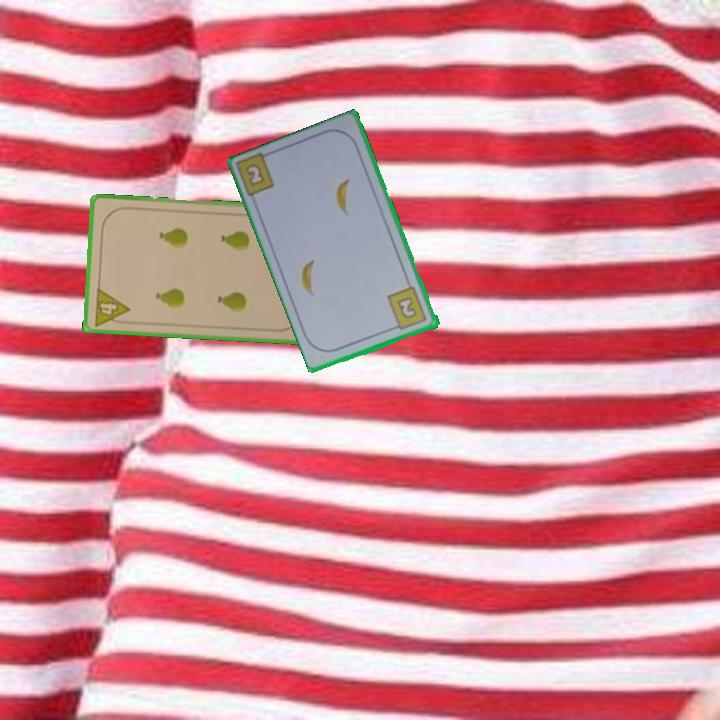2b: (384, 283, 430, 333), (242, 160, 268, 189)
4p: (91, 284, 132, 329)
